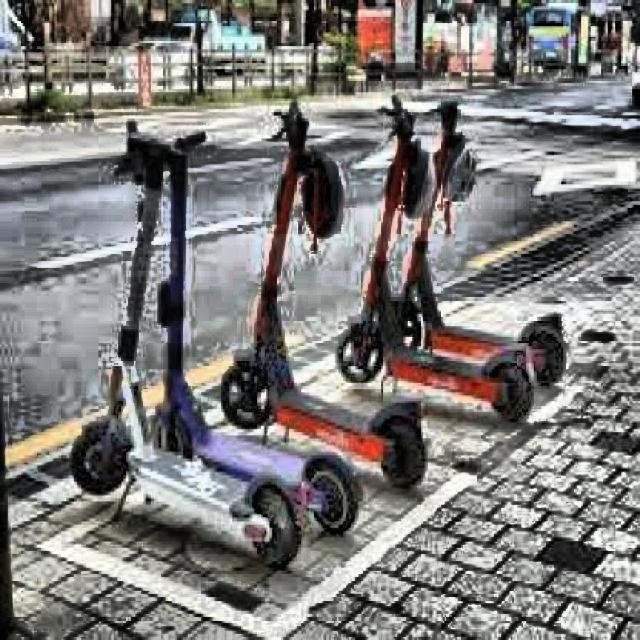bike: (336, 99, 568, 424)
